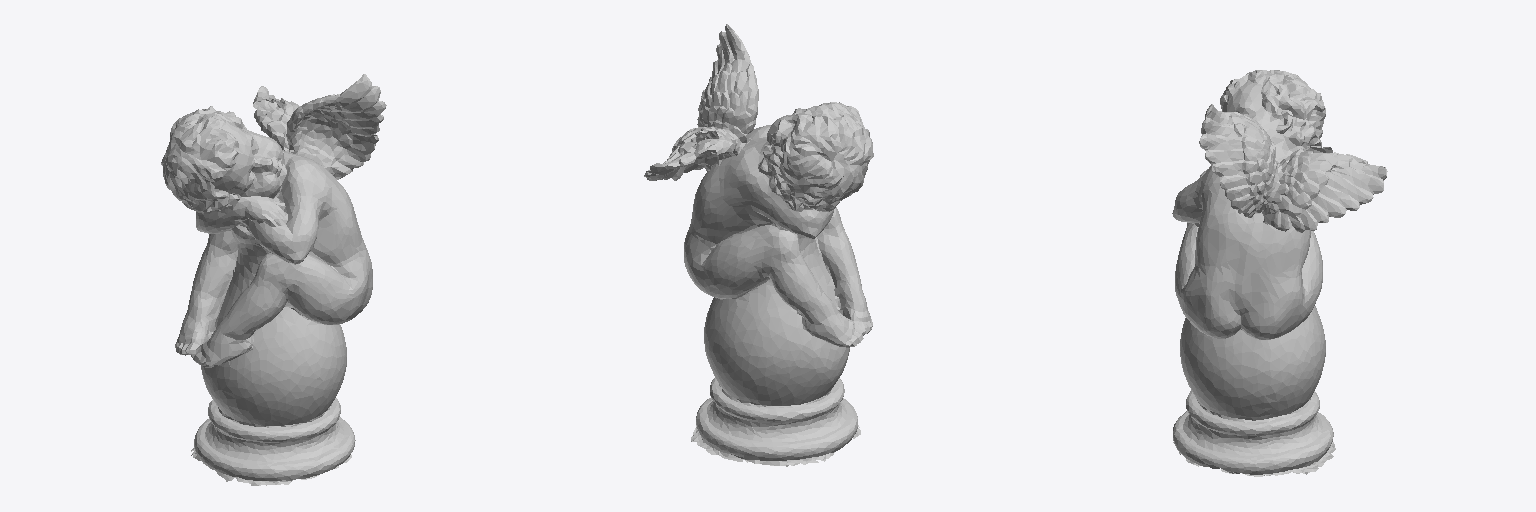
Rendered from figura.obj.
The picture shows the model from 3 angles: view 1: azimuth 30°, elevation 25°; view 2: azimuth 150°, elevation 25°; view 3: azimuth 270°, elevation 25°; orthographic projection.
Parts seen in each view (by area): view 1: figura_lab; view 2: figura_lab; view 3: figura_lab.
Boxes of the visible parts, <box> form: figura_lab: <box>161,74,386,485</box>; figura_lab: <box>644,24,873,466</box>; figura_lab: <box>1172,70,1387,476</box>.
Size of the model in its own units: 1.75 by 3.38 by 1.74.